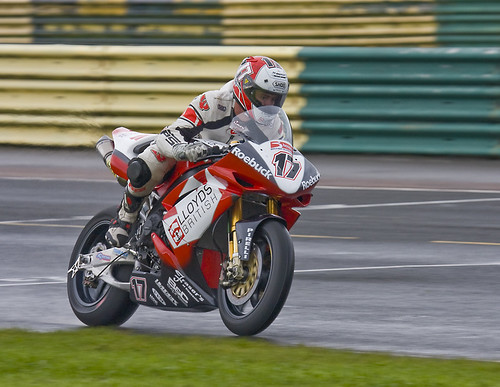helmet: (231, 46, 295, 103)
